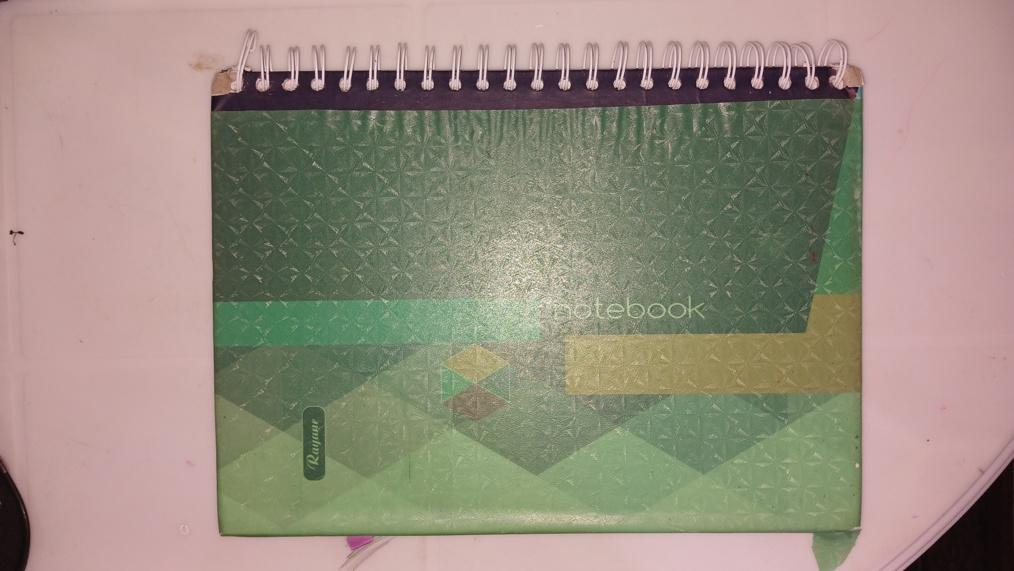notebook: (214, 36, 865, 537)
